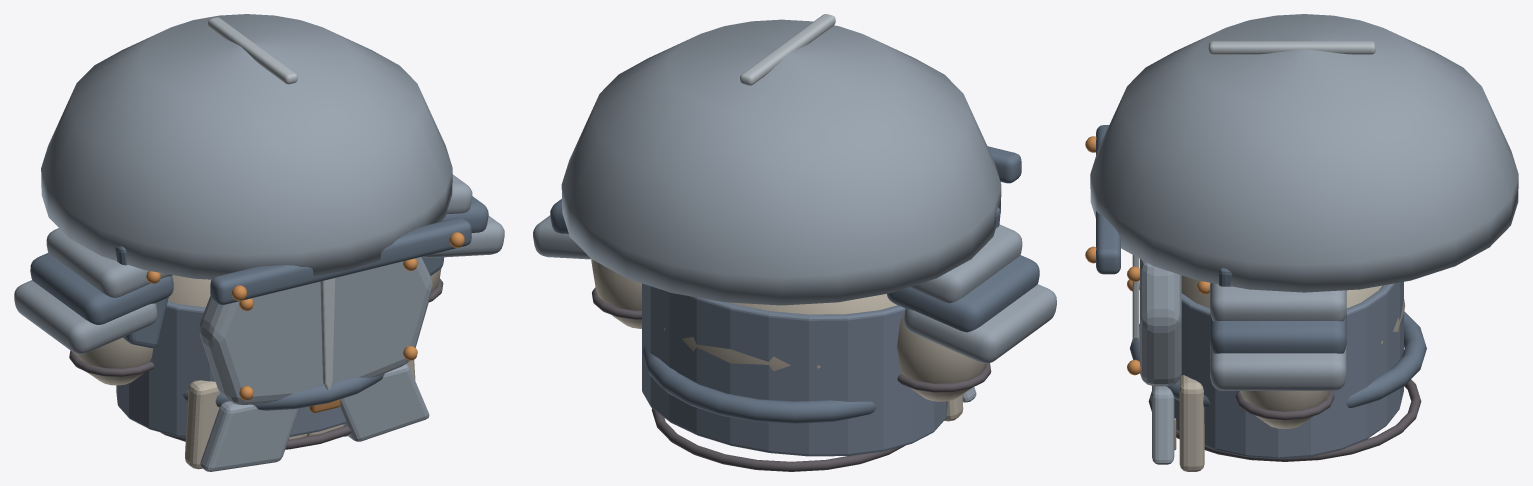
File: ironplate.glb
The picture shows the model from 3 angles, left to right: view 1: azimuth 30°, elevation 25°; view 2: azimuth 150°, elevation 25°; view 3: azimuth 270°, elevation 25°; orthographic projection. The views are drawn at different scales.
Visible parts, largest first — view 1: _iron_brow, _cuirass_ridge, _iron_pauldron_lame, _cloth_skirt, _bound_cuff, _belt_buckle; view 2: _iron_brow, _cuirass_ridge, _iron_pauldron_lame, _cloth_skirt, _bound_cuff; view 3: _iron_brow, _cuirass_ridge, _iron_pauldron_lame, _cloth_skirt, _bound_cuff, _belt_buckle.
Part boxes in pixels (left/top/right/bottom): _iron_brow: left=41, top=14, right=471, bottom=348; _cuirass_ridge: left=116, top=257, right=432, bottom=437; _iron_pauldron_lame: left=14, top=174, right=504, bottom=471; _cloth_skirt: left=75, top=268, right=441, bottom=469; _bound_cuff: left=69, top=278, right=443, bottom=449; _belt_buckle: left=146, top=232, right=464, bottom=412; _iron_brow: left=561, top=14, right=1021, bottom=305; _cuirass_ridge: left=642, top=283, right=947, bottom=456; _iron_pauldron_lame: left=533, top=199, right=1056, bottom=423; _cloth_skirt: left=591, top=259, right=986, bottom=421; _bound_cuff: left=592, top=287, right=991, bottom=471; _iron_brow: left=1090, top=14, right=1518, bottom=292; _cuirass_ridge: left=1132, top=255, right=1403, bottom=458; _iron_pauldron_lame: left=1129, top=282, right=1426, bottom=464; _cloth_skirt: left=1174, top=275, right=1405, bottom=471; _bound_cuff: left=1148, top=379, right=1421, bottom=461; _belt_buckle: left=1085, top=136, right=1210, bottom=375.
Size of the model in its own units: 0.9396 by 0.756 by 0.779.
